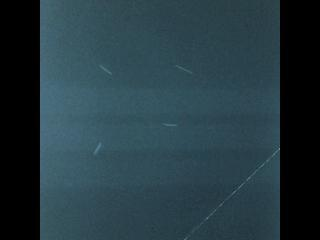crack: (182, 146, 282, 240)
scratch: (171, 59, 196, 79), (95, 61, 118, 81), (89, 136, 106, 162), (158, 117, 183, 133)
